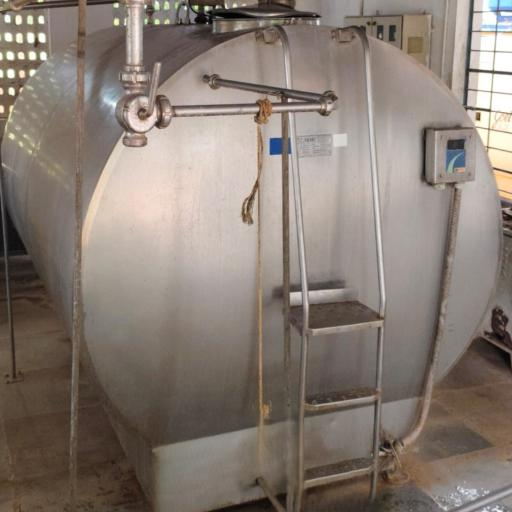silo: (2, 4, 505, 511)
